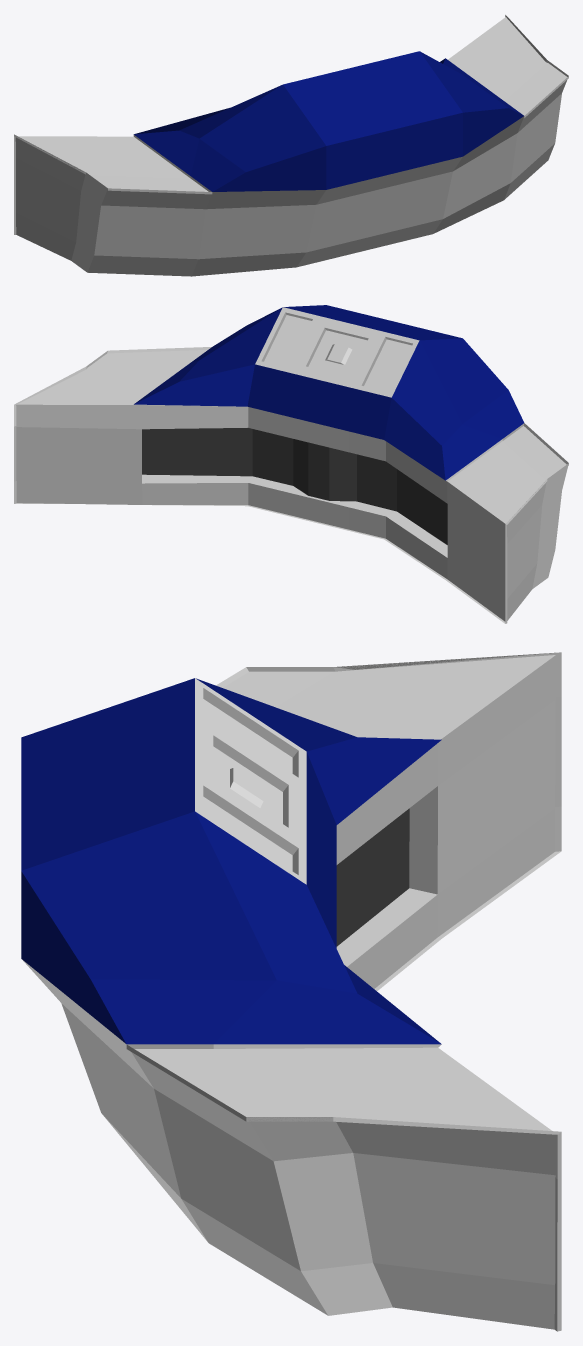
Rendered from Cockpit.glb.
3 views of the same model, one above another, from view 1: azimuth 30°, elevation 25°; view 2: azimuth 150°, elevation 25°; view 3: azimuth 270°, elevation 25° (orthographic). The views are drawn at different scales.
Visible parts, largest first — view 1: Console; view 2: Console; view 3: Console.
Part boxes in pixels (bbox=[...]): Console: bbox=[14, 15, 568, 276]; Console: bbox=[14, 305, 568, 623]; Console: bbox=[21, 652, 561, 1331].
Size of the model in its own units: 2.35 by 0.7866 by 1.11.
